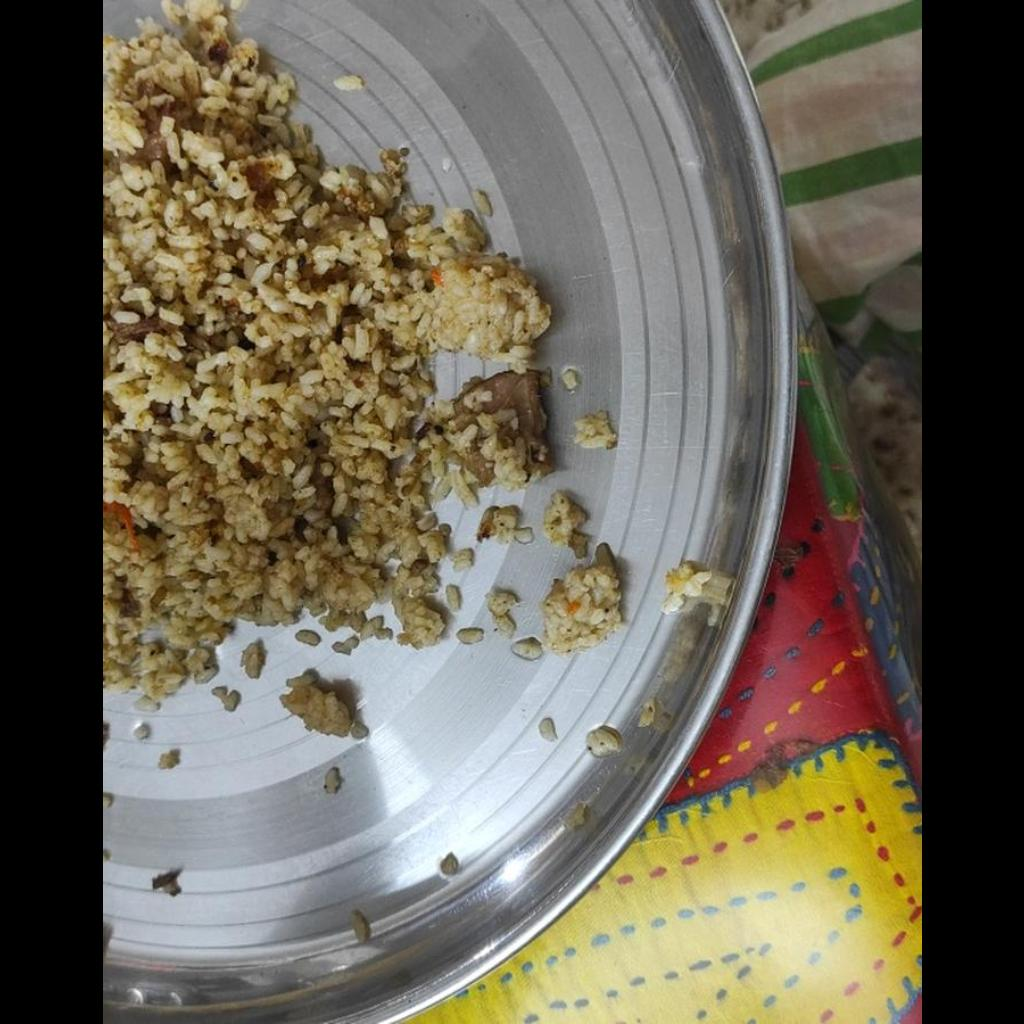biriyani: (102, 1, 628, 709)
